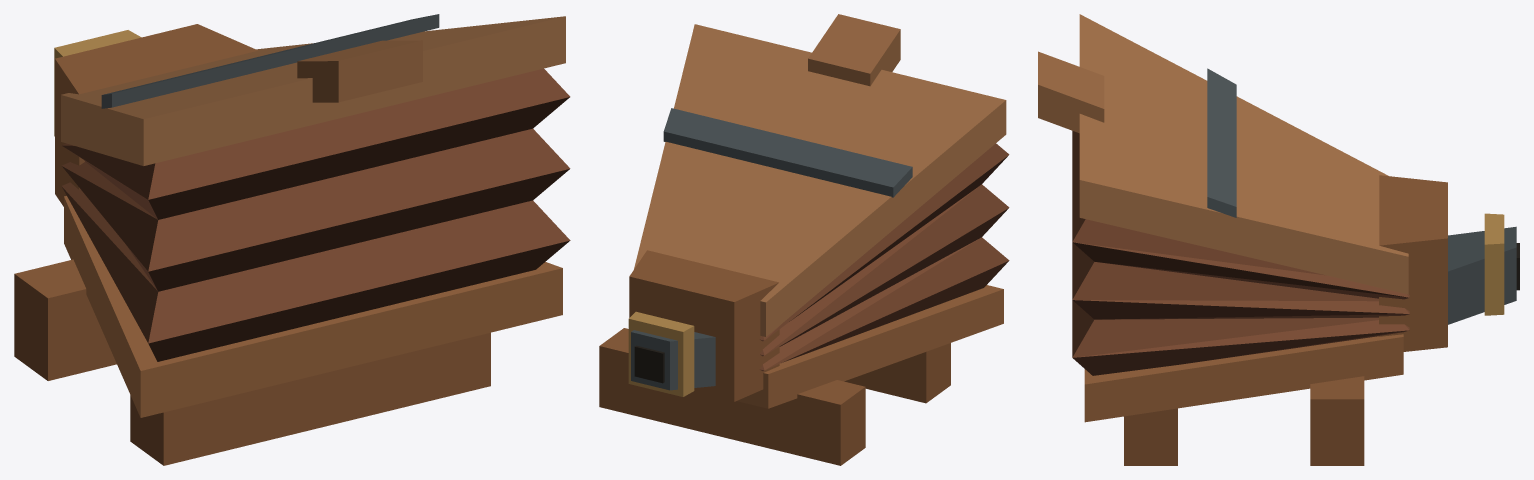
File: bellows.obj
3 views of the same model, side by side, from view 1: azimuth 30°, elevation 25°; view 2: azimuth 150°, elevation 25°; view 3: azimuth 270°, elevation 25° (orthographic). The views are drawn at different scales.
Parts seen in each view (by area): view 1: bellows; view 2: bellows; view 3: bellows.
Boxes of the visible parts, x1,y1,x2,y2 form: bellows: (14,14,570,465); bellows: (599,14,1009,465); bellows: (1038,14,1519,465).
Bounding box in the file's own units: 0.8 × 0.75 × 0.982.
